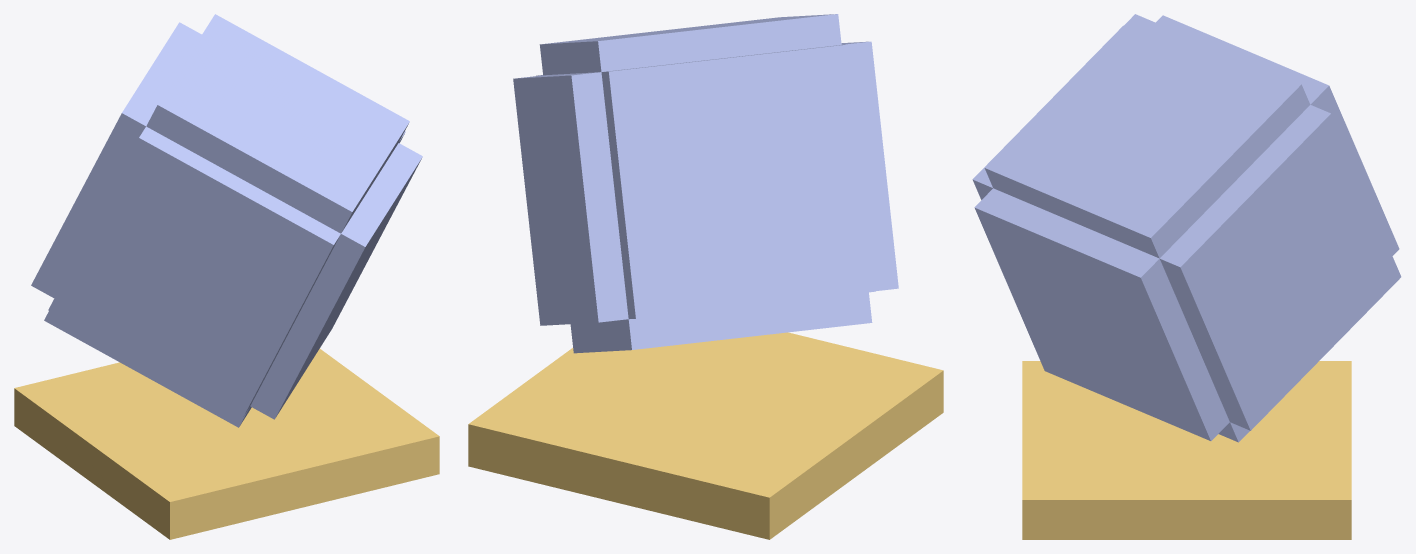
3 views of the same model, side by side, from view 1: azimuth 30°, elevation 25°; view 2: azimuth 150°, elevation 25°; view 3: azimuth 270°, elevation 25° (orthographic). The views are drawn at different scales.
Visible parts, largest first — view 1: cube.Main, cube.Gold; view 2: cube.Main, cube.Gold; view 3: cube.Main, cube.Gold.
Part boxes in pixels (left/top/right/bottom): cube.Main: left=31, top=14, right=422, bottom=427; cube.Gold: left=14, top=349, right=439, bottom=539; cube.Main: left=513, top=14, right=898, bottom=353; cube.Gold: left=468, top=332, right=943, bottom=539; cube.Main: left=972, top=14, right=1401, bottom=442; cube.Gold: left=1022, top=361, right=1351, bottom=539.
Bounding box in the file's own units: 1.75 × 1.84 × 1.75.
